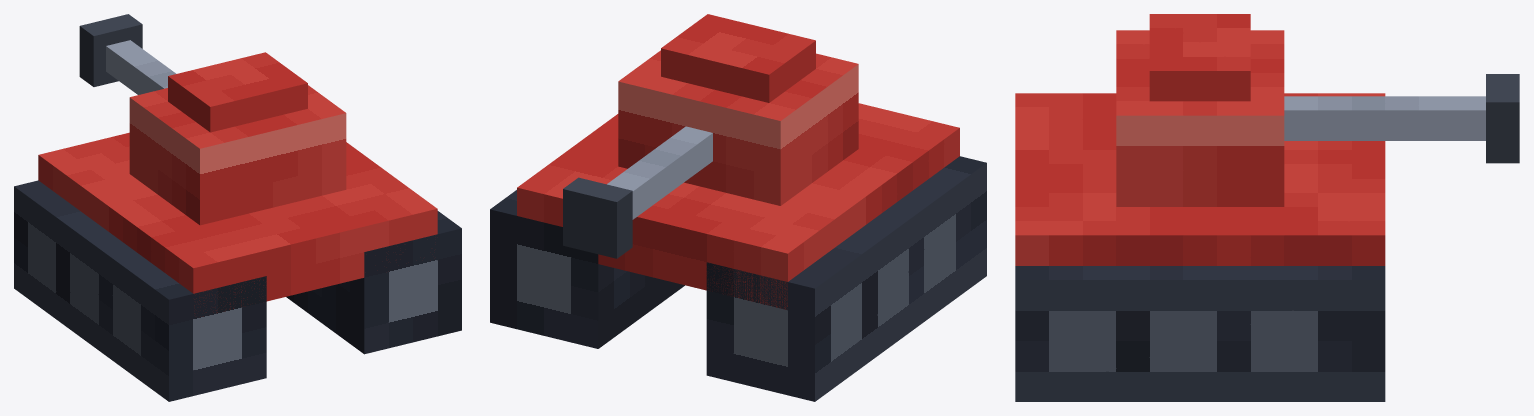
The model's file is ltank_red.glb.
3 views of the same model, side by side, from view 1: azimuth 30°, elevation 25°; view 2: azimuth 150°, elevation 25°; view 3: azimuth 270°, elevation 25° (orthographic). The views are drawn at different scales.
Visible parts, largest first — view 1: chassis, hull, turret, barrel; view 2: chassis, hull, turret, barrel; view 3: chassis, hull, turret, barrel.
Part boxes in pixels (x1=…): chassis: x1=14, y1=180, x2=461, y2=401; hull: x1=38, y1=132, x2=437, y2=316; turret: x1=129, y1=52, x2=346, y2=225; barrel: x1=79, y1=14, x2=176, y2=94; chassis: x1=490, y1=156, x2=986, y2=401; hull: x1=517, y1=103, x2=959, y2=309; turret: x1=618, y1=14, x2=858, y2=205; barrel: x1=563, y1=126, x2=712, y2=258; chassis: x1=1015, y1=266, x2=1385, y2=401; hull: x1=1015, y1=93, x2=1385, y2=265; turret: x1=1116, y1=14, x2=1284, y2=206; barrel: x1=1284, y1=74, x2=1519, y2=163.
Bounding box in the file's own units: 0.75 × 0.5625 × 0.9375.
1 material, 1 textured.
